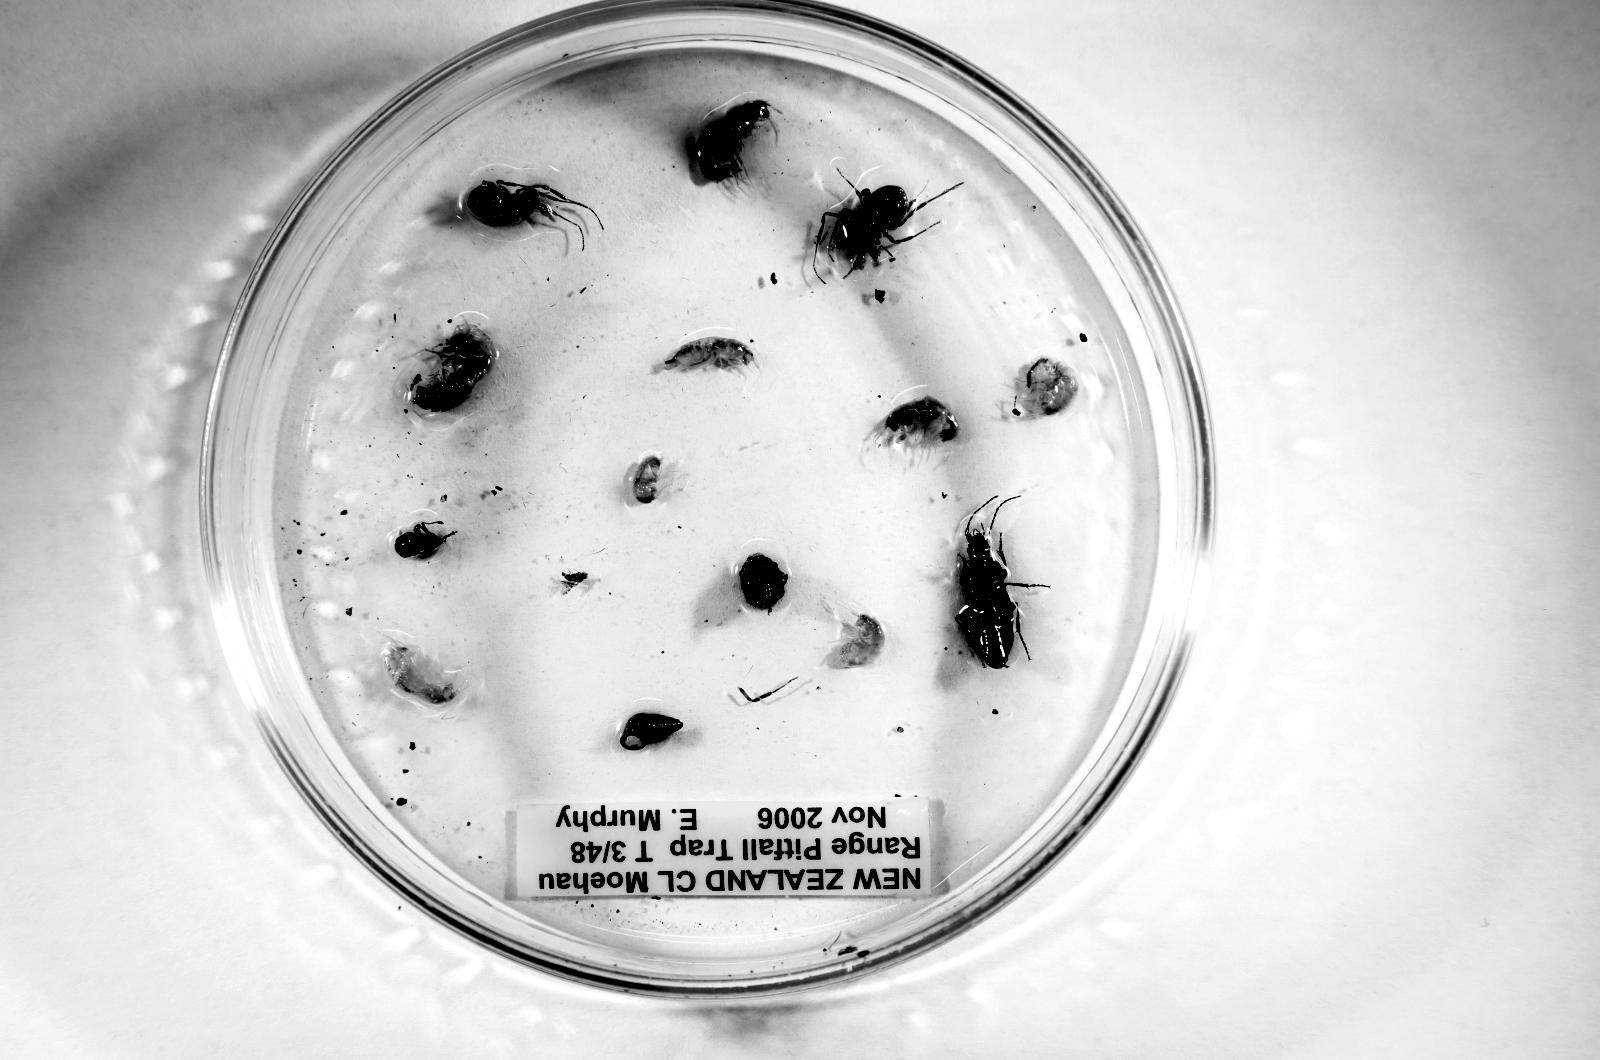amphipoda: (410, 322, 497, 412), (696, 99, 770, 182), (877, 395, 959, 459), (383, 639, 460, 704), (1022, 357, 1079, 417), (665, 336, 755, 370), (831, 614, 885, 667), (632, 454, 662, 503)
carabidae: (955, 531, 1018, 669)
diptera: (561, 571, 588, 594)
gastropoda: (620, 712, 683, 750)
opiliones: (816, 186, 923, 272), (467, 180, 594, 224)
